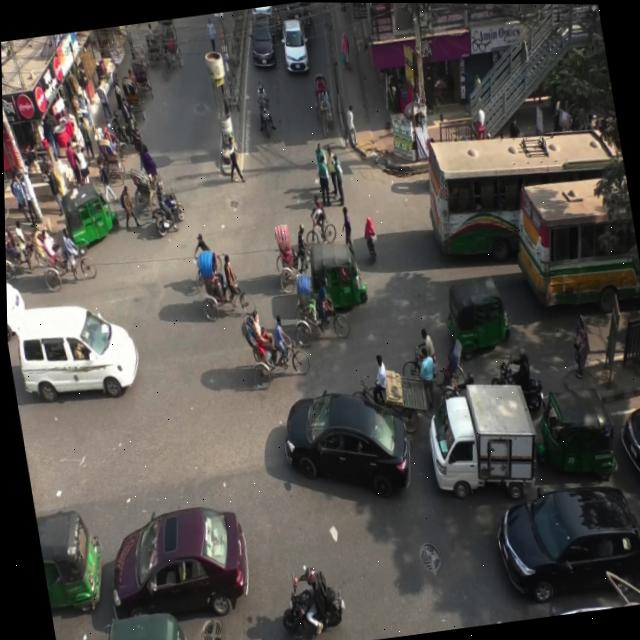cng: (522, 368, 629, 497), (425, 255, 523, 368), (48, 171, 129, 256), (296, 239, 375, 320)
rikshaw: (234, 296, 307, 399), (266, 208, 331, 305), (186, 231, 256, 321), (23, 211, 95, 295), (287, 256, 352, 343), (87, 120, 134, 190), (149, 16, 196, 79), (308, 62, 337, 141), (125, 39, 156, 108), (116, 69, 149, 126)
